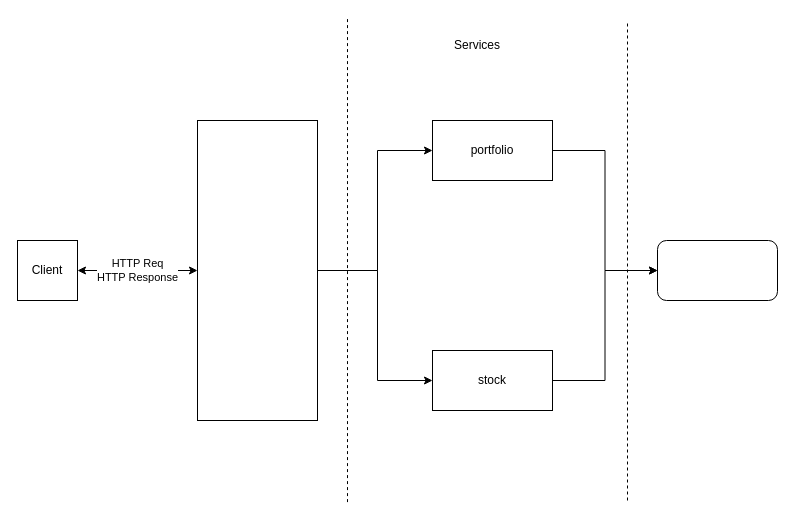
Image size: 795x521. Some labels were removed from this diagram. Each missing label, with the centre of its shape:
"Portfolio Controller" belongs at (x=257, y=270).
"Repository" belongs at (x=717, y=270).
